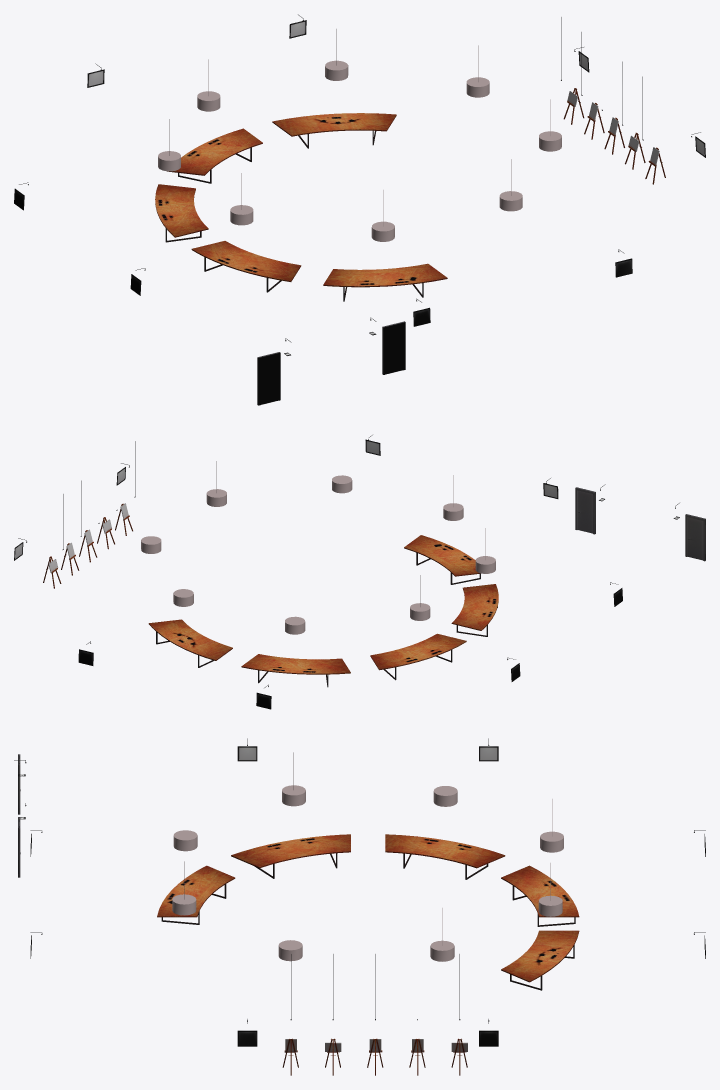
The model's file is facilities.gltf.
3 renders of one model, top to bottom at view 1: azimuth 30°, elevation 25°; view 2: azimuth 150°, elevation 25°; view 3: azimuth 270°, elevation 25°, orthographic. The views are drawn at different scales.
Visible parts, largest first — view 1: CenterTableTimber, CeilingLight+RF, SWToiletDoor+Sign, PictureFrame, Easel+Light, CenterTableSteel; view 2: CenterTableTimber, CeilingLight+RF, SWToiletDoor+Sign, PictureFrame, Easel+Light, CenterTableSteel; view 3: CenterTableTimber, CeilingLight+RF, Easel+Light, PictureFrame, CenterTableSteel.
Part boxes in pixels (x1,y1,x2,y2): CenterTableTimber: (155,113,447,287); CeilingLight+RF: (158,29,561,241); SWToiletDoor+Sign: (257,317,405,405); PictureFrame: (14,14,705,326); Easel+Light: (561,17,665,184); CenterTableSteel: (165,130,423,301); CenterTableTimber: (148,535,498,674); CeilingLight+RF: (141,461,495,634); SWToiletDoor+Sign: (575,484,705,561); PictureFrame: (14,435,622,709); Easel+Light: (43,441,135,588); CenterTableSteel: (156,552,497,687); CenterTableTimber: (157,834,579,982); CeilingLight+RF: (172,752,563,961); Easel+Light: (282,954,467,1075); PictureFrame: (30,738,705,1046); CenterTableSteel: (161,853,575,990).
Size of the model in its own units: 28.01 by 5.06 by 28.69.
Materials: 6 (5 with a texture image).
